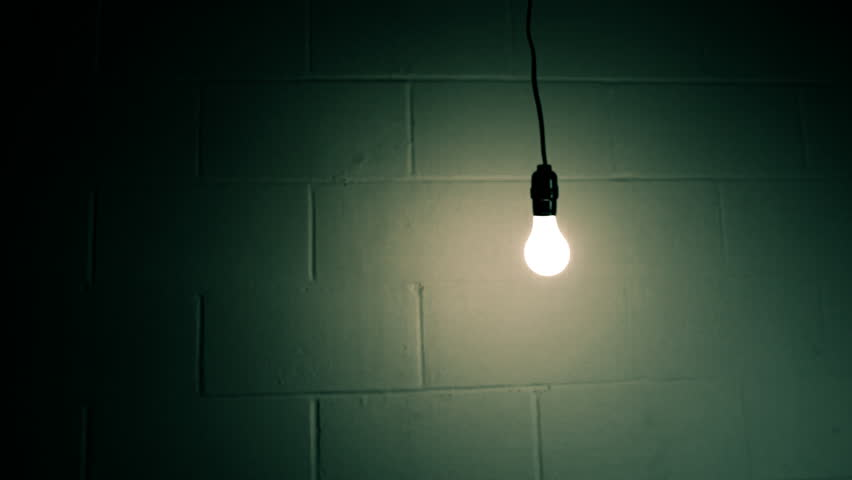bulb: (504, 206, 585, 282)
